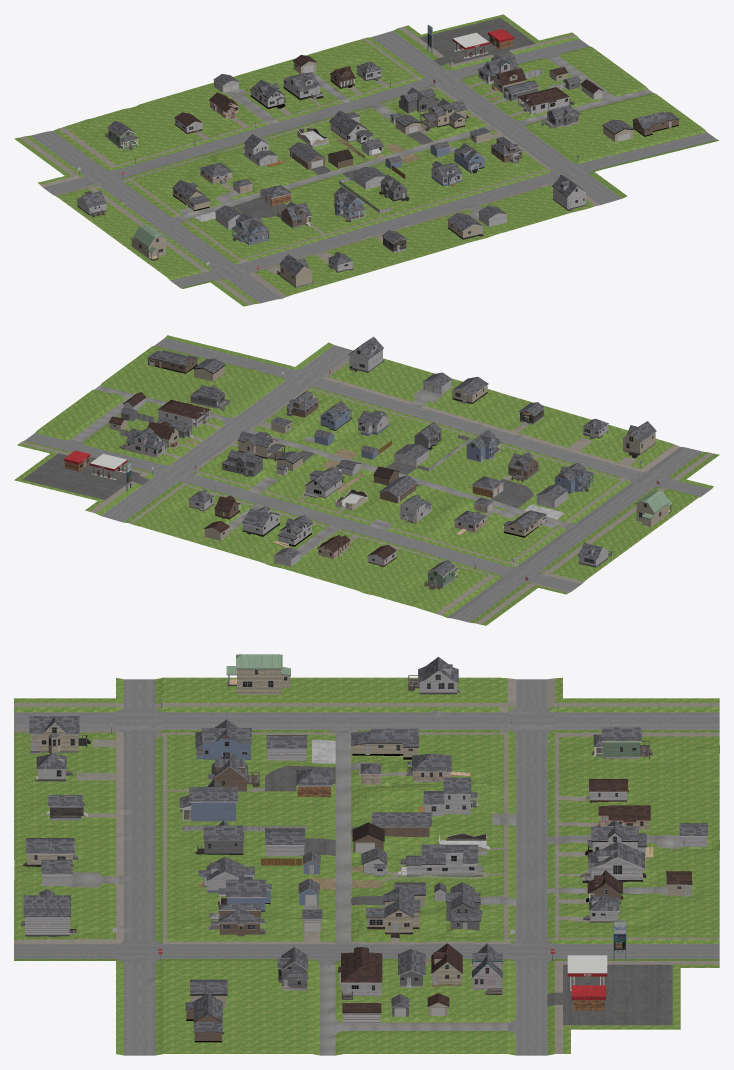
Rendered from Block.fbx.
3 renders of one model, top to bottom at view 1: azimuth 30°, elevation 25°; view 2: azimuth 150°, elevation 25°; view 3: azimuth 270°, elevation 25°, orthographic. The views are drawn at different scales.
Parts seen in each view (by area): view 1: Ground, Other Houses, Jonah House, Krisp, 420 House, Decorations; view 2: Ground, Other Houses, Krisp, Jonah House, 420 House, Decorations; view 3: Ground, Other Houses, 420 House, Jonah House, Krisp, Decorations, Pawn Shop, 420 Garage.
Part boxes in pixels (box(x1,y1,x2,y2)): Ground: box(14, 14, 719, 306); Other Houses: box(76, 55, 679, 287); Jonah House: box(517, 87, 574, 115); Krisp: box(452, 29, 514, 58); 420 House: box(329, 110, 373, 143); Decorations: box(77, 25, 578, 272); Ground: box(14, 335, 719, 625); Other Houses: box(108, 336, 672, 590); Krisp: box(63, 450, 127, 480); Jonah House: box(157, 399, 210, 428); 420 House: box(304, 466, 344, 498); Decorations: box(120, 370, 659, 583); Ground: box(14, 677, 719, 1055); Other Houses: box(21, 654, 707, 1042); 420 House: box(398, 844, 482, 876); Jonah House: box(338, 947, 382, 999); Krisp: box(567, 955, 607, 1010); Decorations: box(111, 698, 626, 960); Pawn Shop: box(47, 795, 87, 820); 420 Garage: box(361, 847, 387, 876).
Size of the model in its own units: 22611 by 1775 by 16737.
